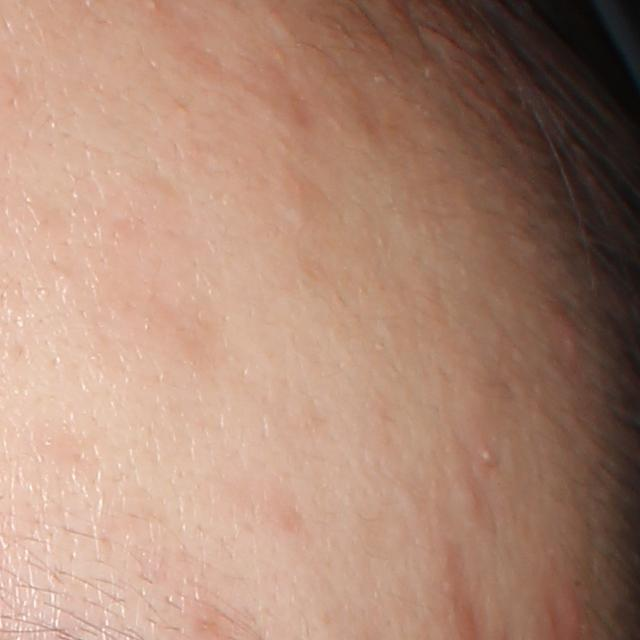papule: (546, 304, 582, 364)
